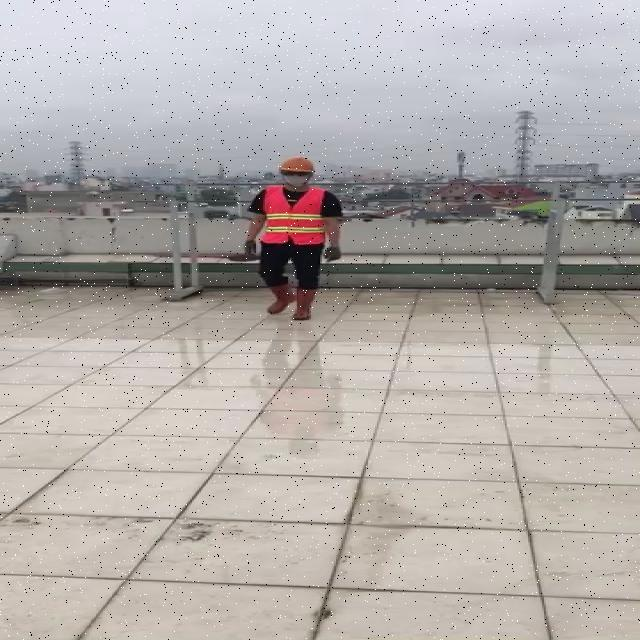Hard_hat: (277, 154, 318, 179)
Person: (239, 150, 353, 335)
Vest: (262, 188, 325, 247)
